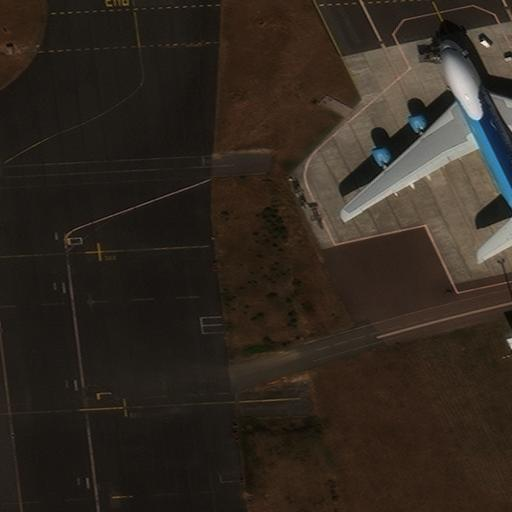Large Civil Transport: (338, 39, 511, 256)
